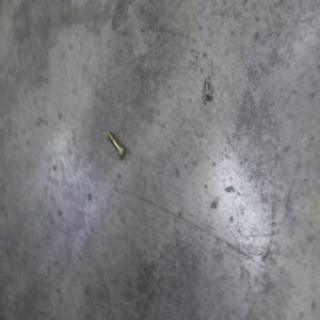Bolttrack_idkeyframe: (105, 128, 126, 160)
